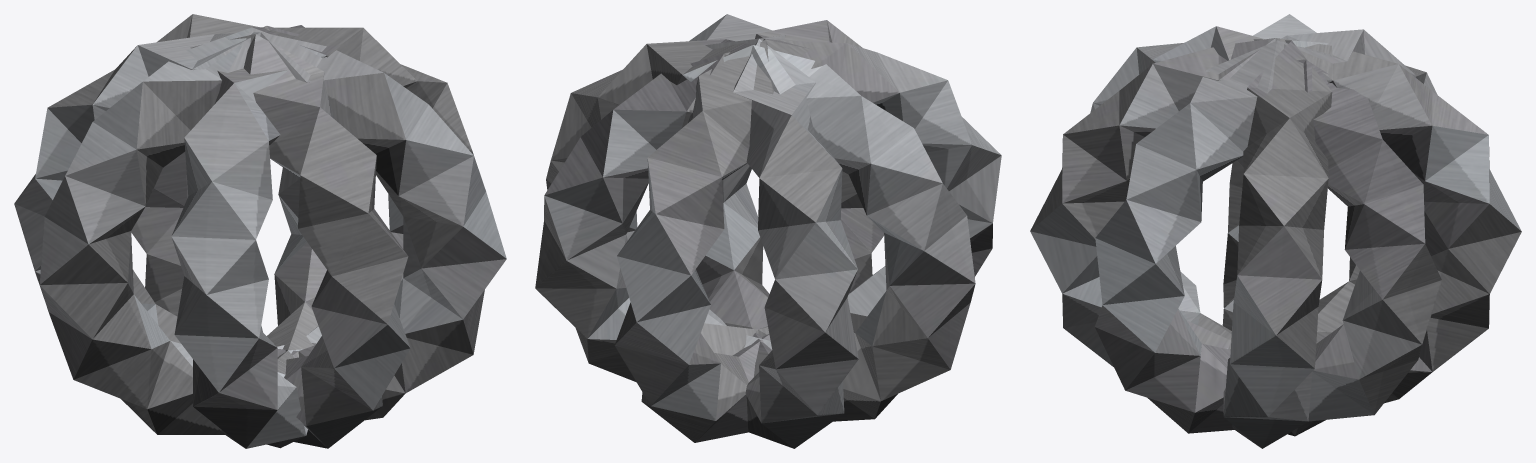
The model's file is star.dae.
3 renders of one model, left to right at view 1: azimuth 30°, elevation 25°; view 2: azimuth 150°, elevation 25°; view 3: azimuth 270°, elevation 25°, orthographic. The views are drawn at different scales.
Parts seen in each view (by area): view 1: Torus_002; view 2: Torus_002; view 3: Torus_002.
Part boxes in pixels (x1,y1,x2,y2): Torus_002: (14, 14, 506, 448); Torus_002: (535, 14, 1001, 448); Torus_002: (1030, 14, 1521, 448).
Bounding box in the file's own units: 0.9879 × 0.9879 × 0.8483.
Materials: 1 (1 with a texture image).
